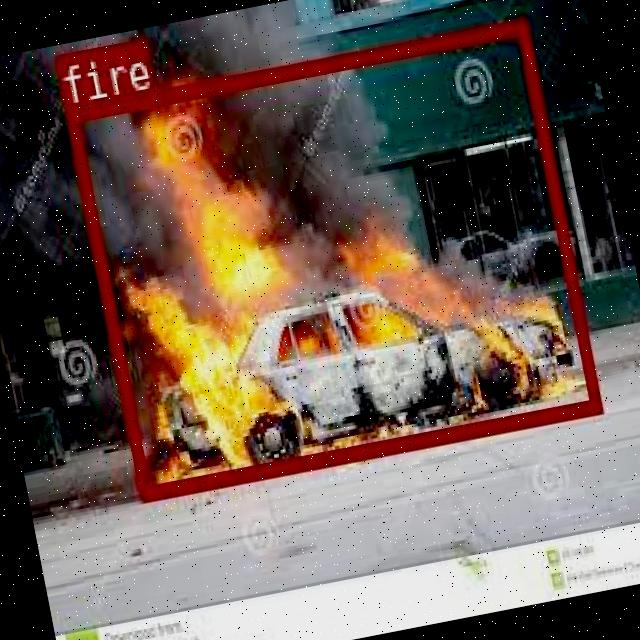fire: (63, 17, 600, 500)
